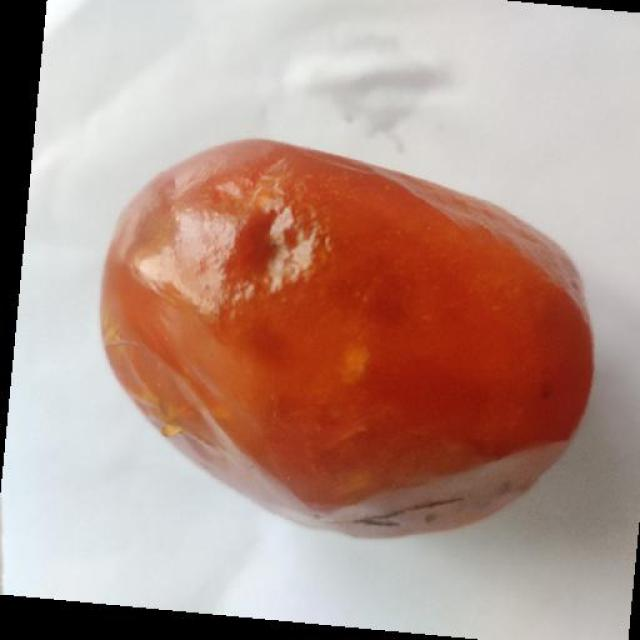Stale_tomato: (91, 132, 598, 556)
